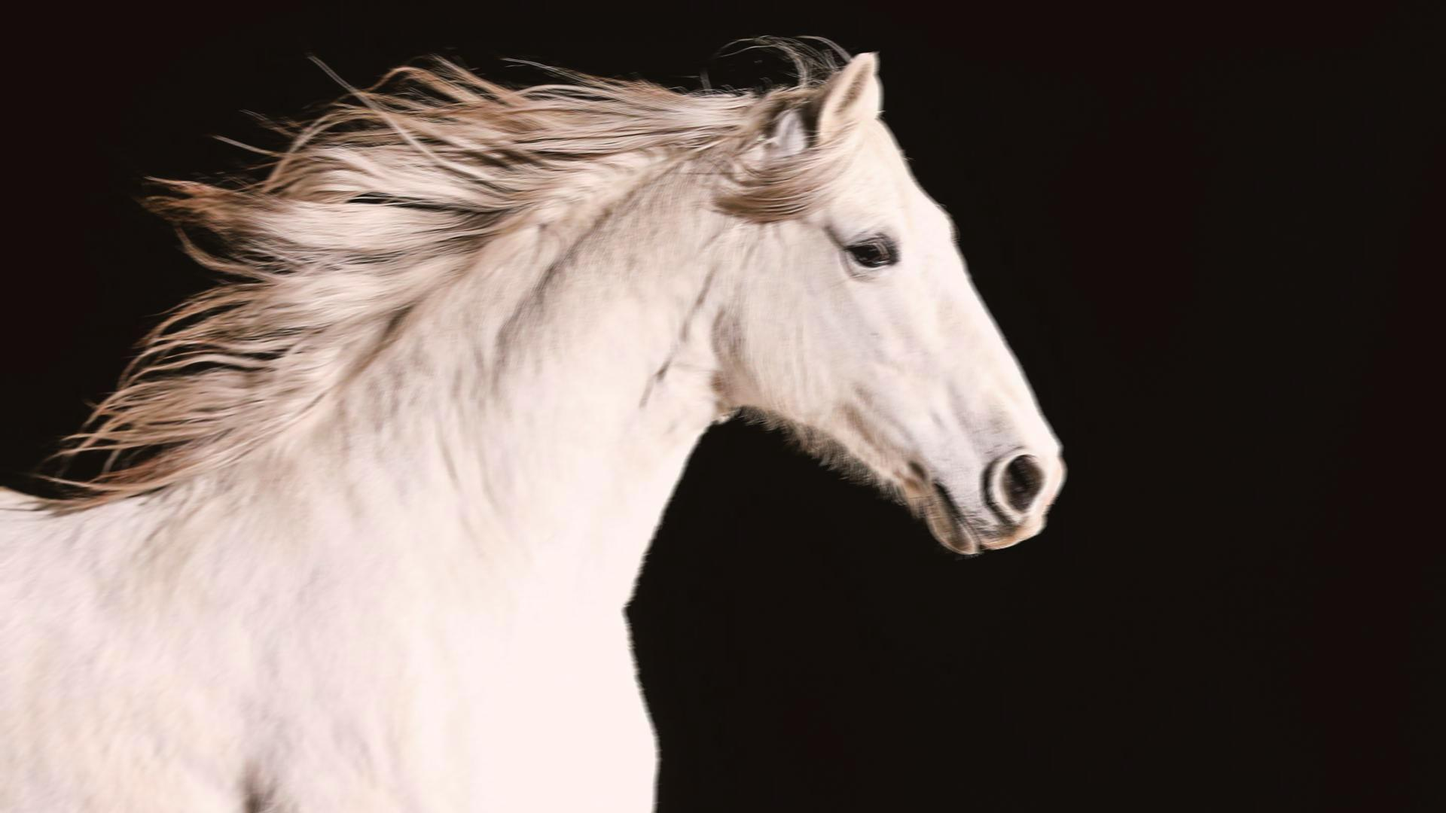horse: (0, 0, 1079, 813)
